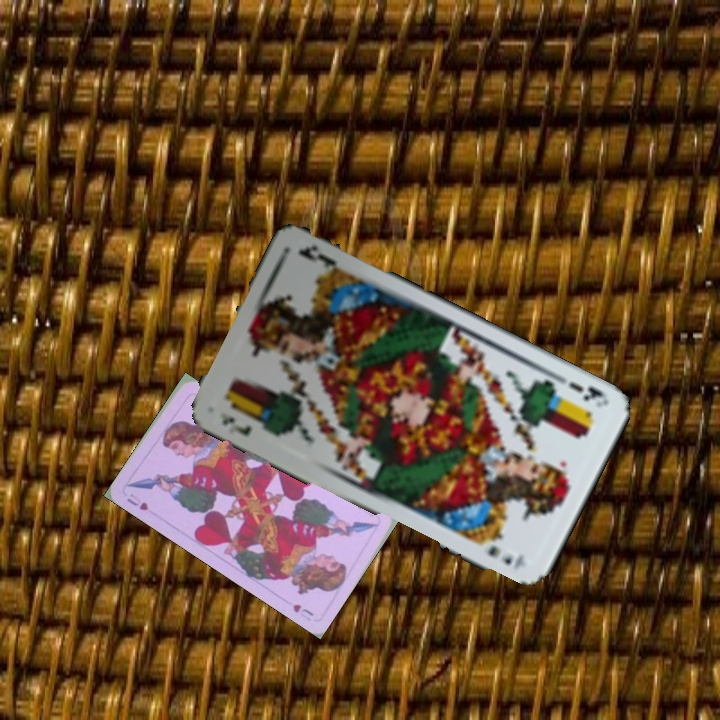EK: (563, 378, 610, 404), (215, 409, 255, 438)
HU: (123, 489, 151, 513)
